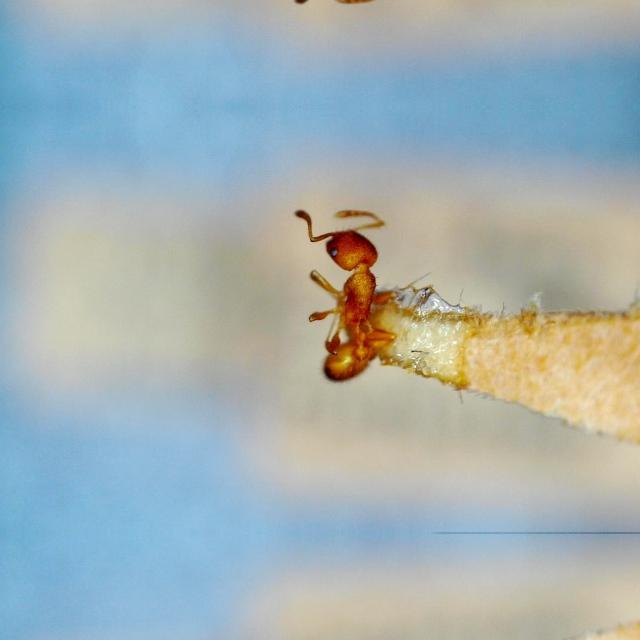Temnothorax: (277, 204, 418, 388)
